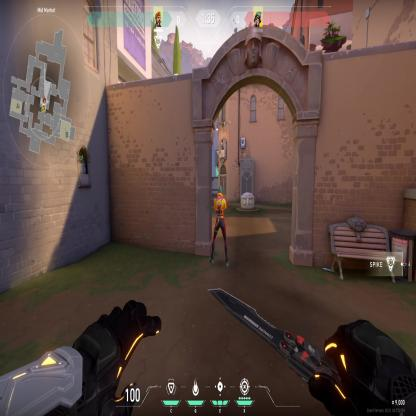enemy: (209, 184, 229, 269)
